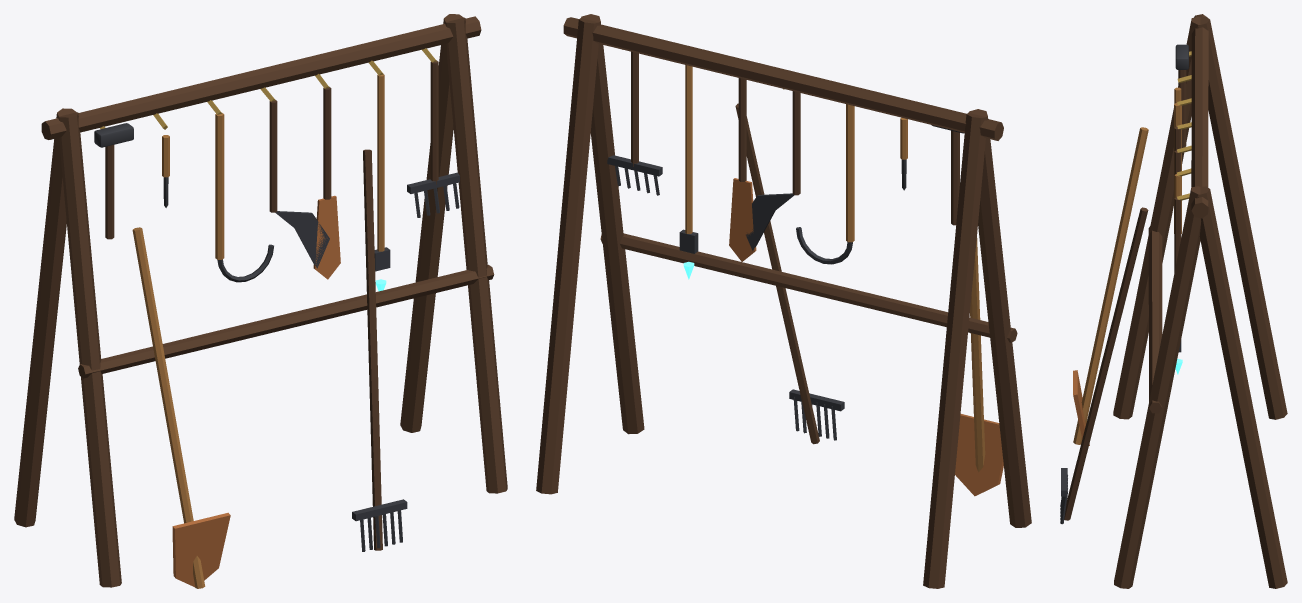
The model's file is deco_tool_rack.fbx.
The picture shows the model from 3 angles, left to right: view 1: azimuth 30°, elevation 25°; view 2: azimuth 150°, elevation 25°; view 3: azimuth 270°, elevation 25°; orthographic projection. The views are drawn at different scales.
Visible parts, largest first — view 1: ToolRack_Rack, ToolRack_HungTools, ToolRack_LeaningTools; view 2: ToolRack_Rack, ToolRack_HungTools, ToolRack_LeaningTools; view 3: ToolRack_Rack, ToolRack_LeaningTools, ToolRack_HungTools.
Part boxes in pixels (x1,y1,x2,y2): ToolRack_Rack: (14,14,507,587); ToolRack_HungTools: (94,60,459,291); ToolRack_LeaningTools: (132,149,407,588); ToolRack_Rack: (536,14,1031,588); ToolRack_HungTools: (607,51,964,279); ToolRack_LeaningTools: (735,103,1003,496); ToolRack_Rack: (1113,14,1287,588); ToolRack_LeaningTools: (1060,127,1148,524); ToolRack_HungTools: (1174,44,1188,374).
Size of the model in its own units: 200 by 198 by 102.
